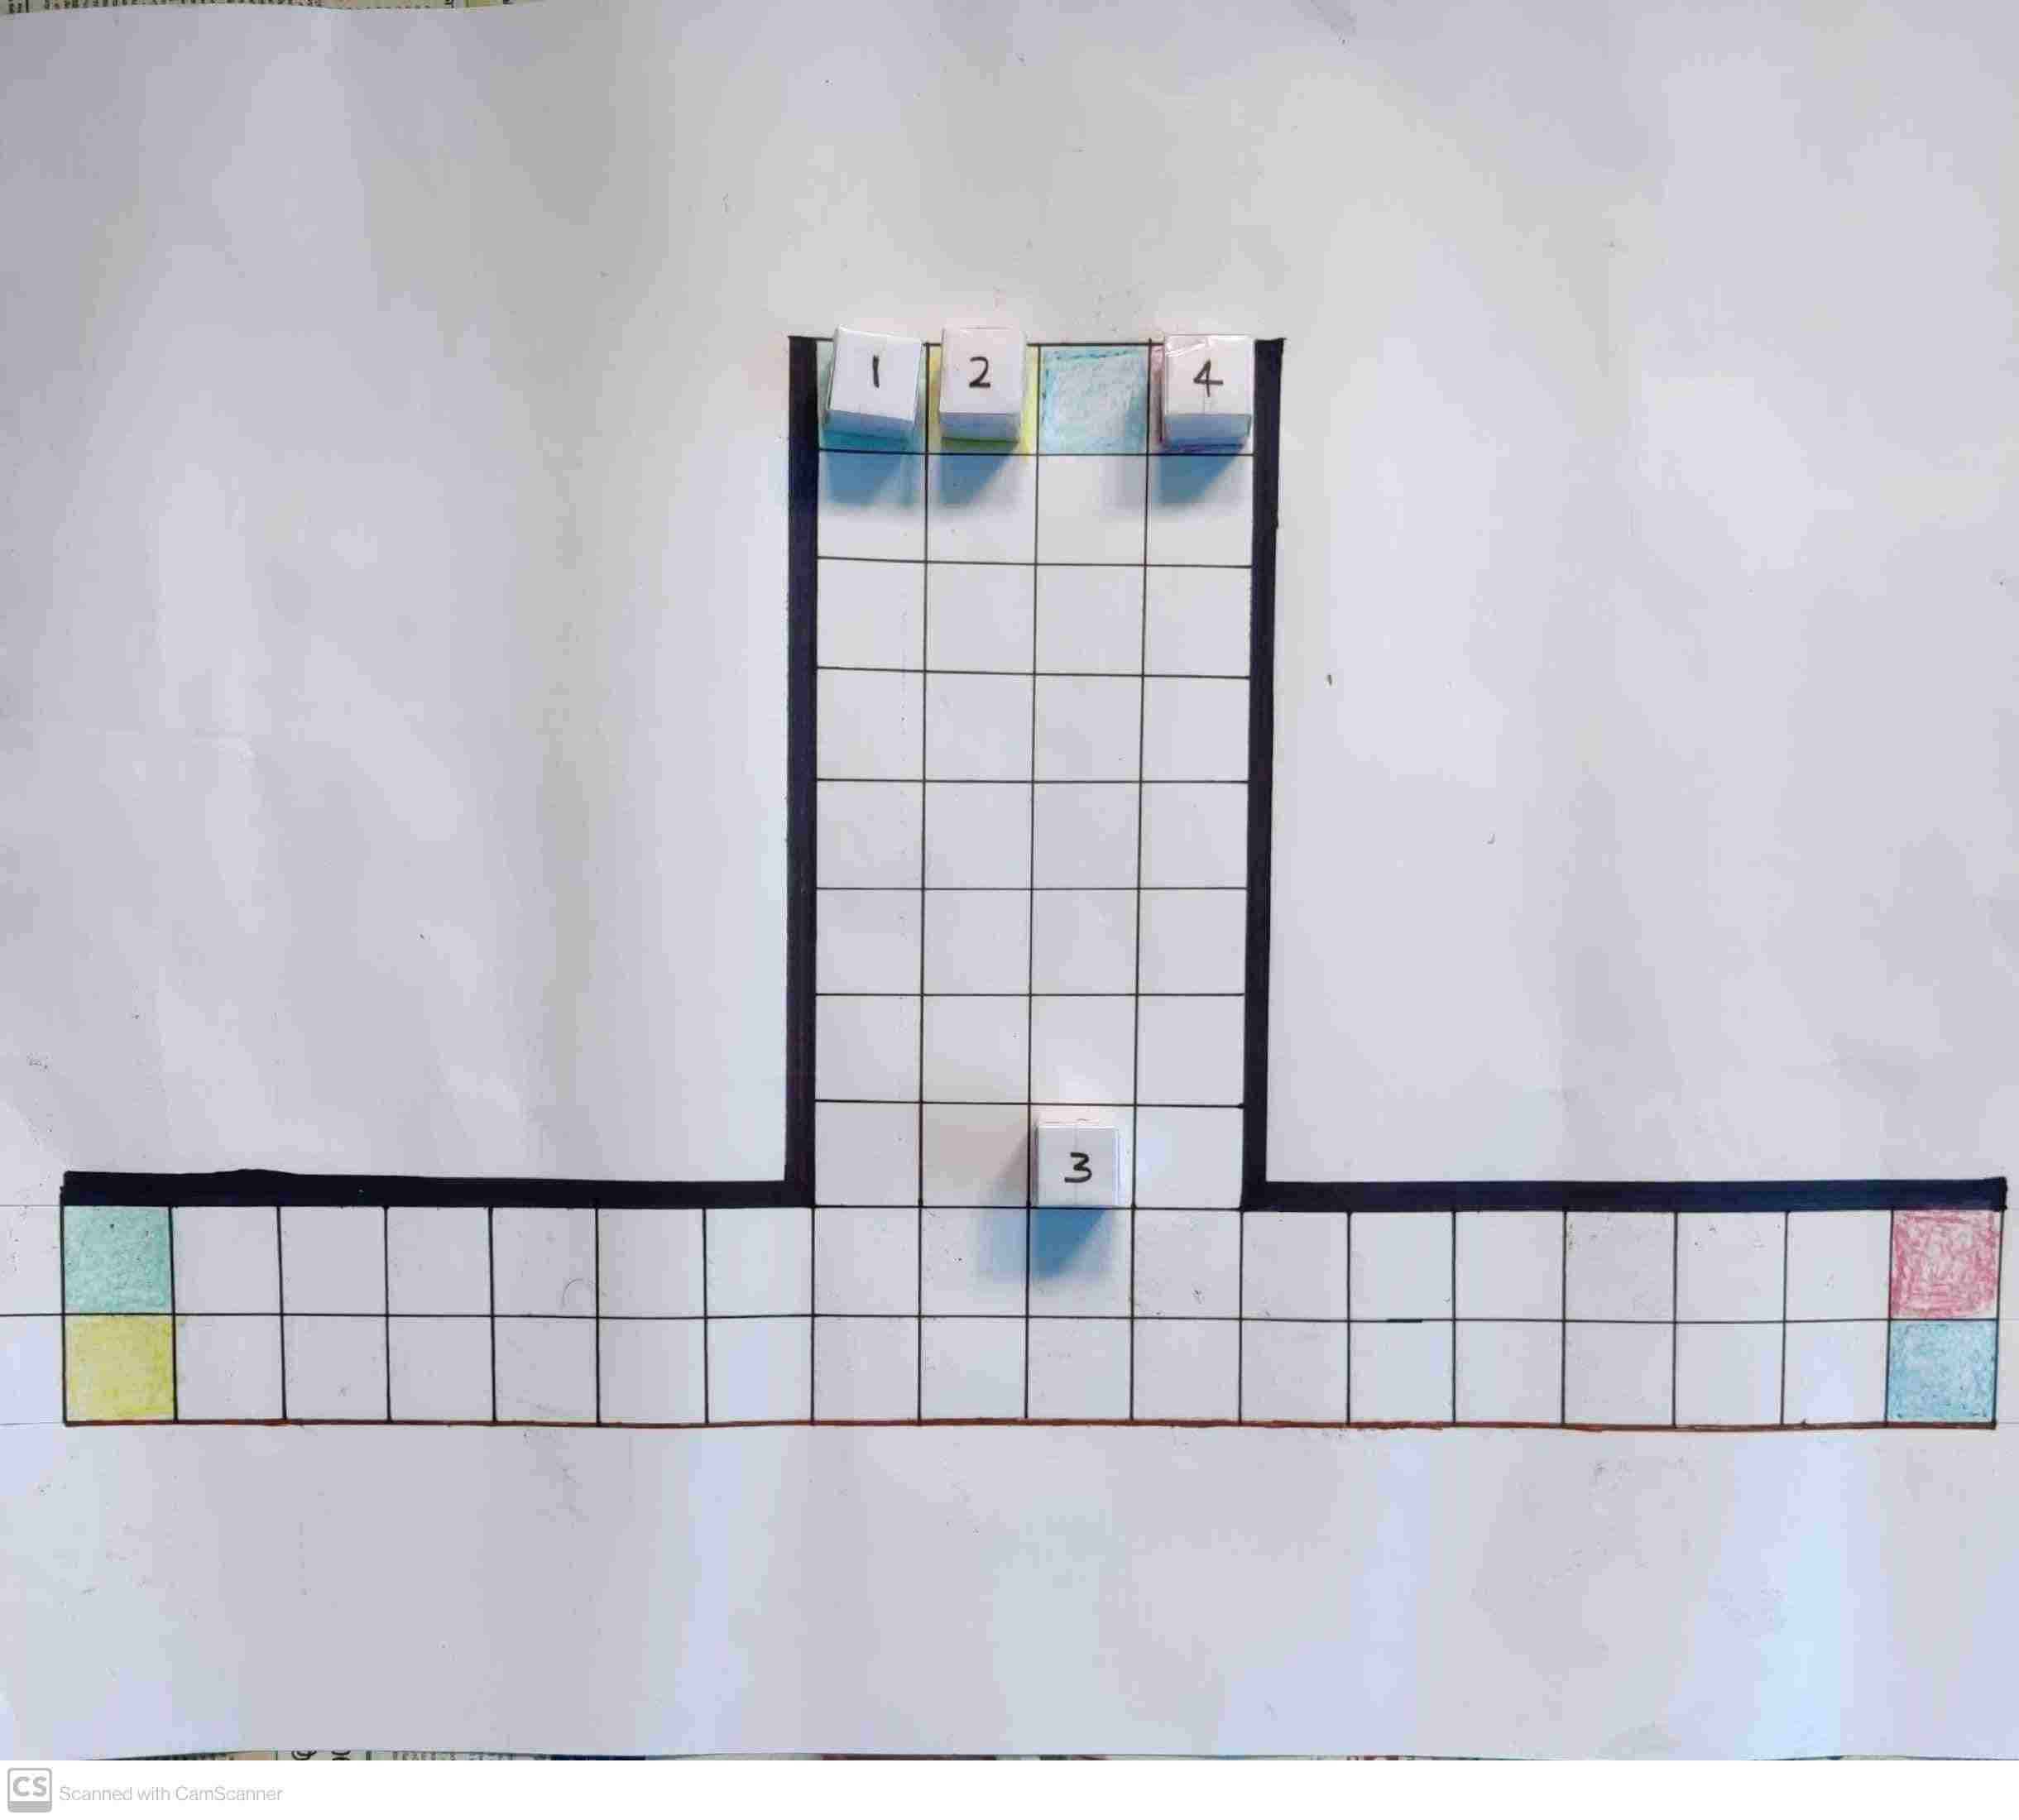arena: (62, 337, 2001, 1414)
bot: (833, 330, 919, 416), (1035, 1128, 1123, 1205), (942, 339, 1024, 416), (1170, 343, 1251, 413)
